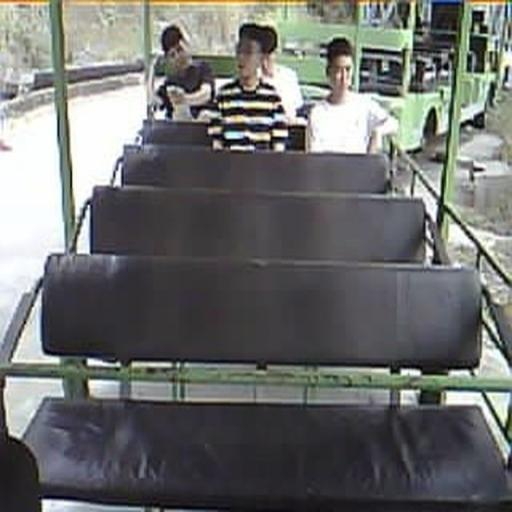persona: (306, 36, 399, 155), (208, 26, 290, 152), (150, 22, 215, 120), (257, 24, 309, 125)
